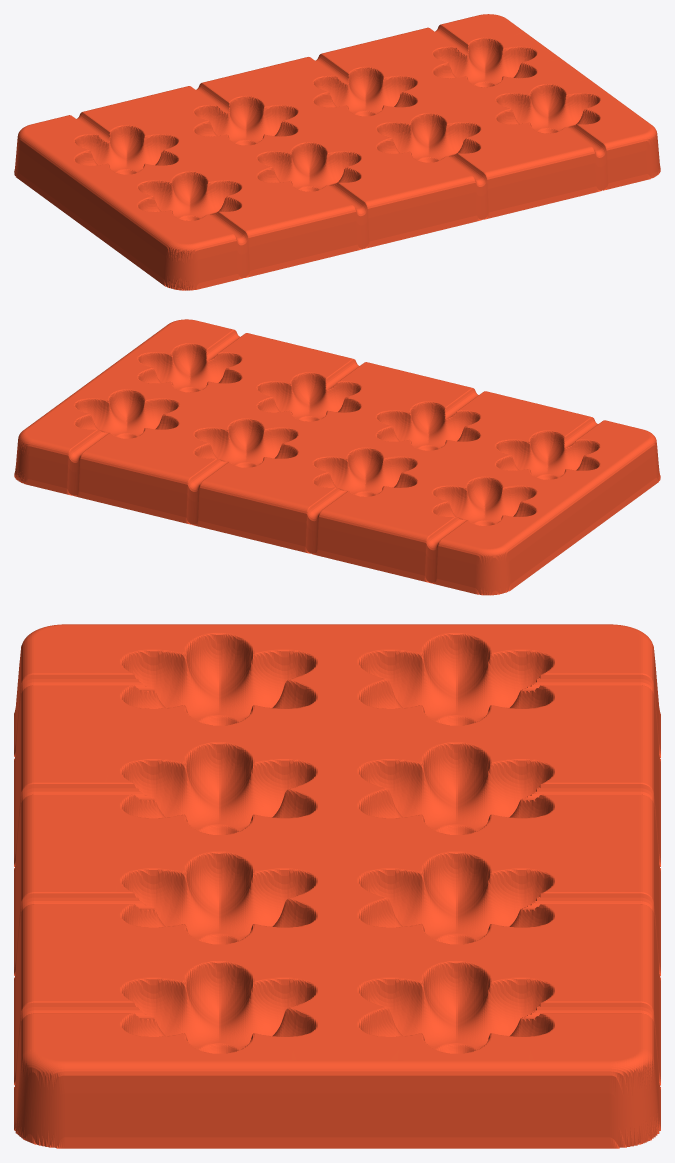
Rendered from mold.glb.
The picture shows the model from 3 angles, top to bottom: view 1: azimuth 30°, elevation 25°; view 2: azimuth 150°, elevation 25°; view 3: azimuth 270°, elevation 25°; orthographic projection. The views are drawn at different scales.
Parts seen in each view (by area): view 1: geometry_0; view 2: geometry_0; view 3: geometry_0.
Boxes of the visible parts, x1,y1,x2,y2 form: geometry_0: (14, 14, 660, 290); geometry_0: (14, 319, 660, 595); geometry_0: (14, 624, 660, 1148).
Bounding box in the file's own units: 0.1907 × 0.0155 × 0.1152.
